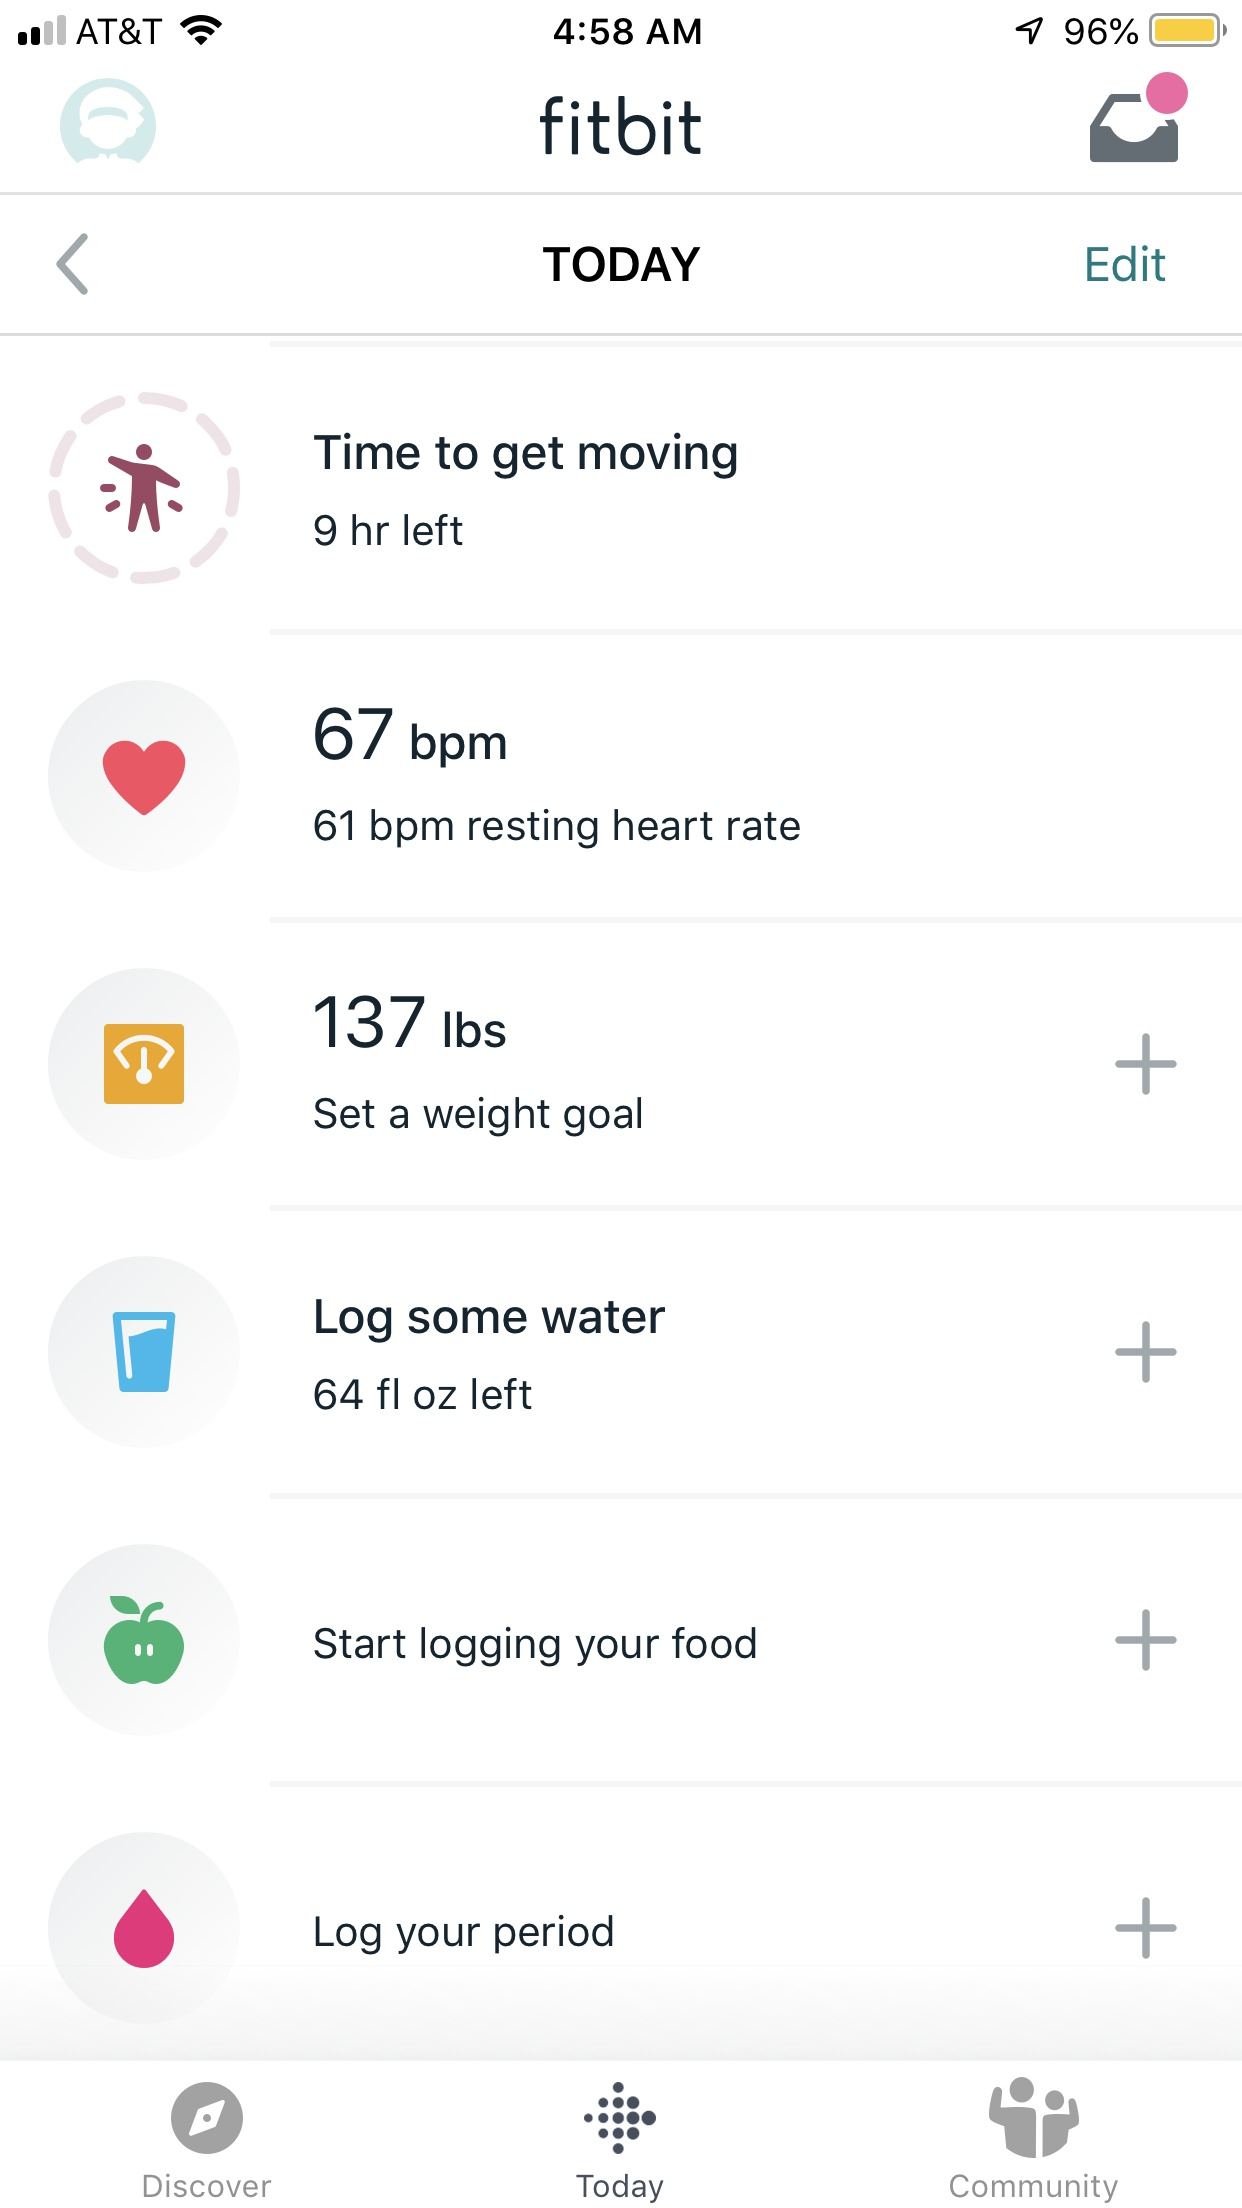Icon: (49, 679, 241, 873), (171, 2081, 244, 2155), (1115, 1607, 1178, 1673), (1115, 1319, 1178, 1385), (1115, 1896, 1178, 1959), (1115, 1033, 1178, 1096), (58, 234, 89, 297)
Image: (49, 1830, 243, 2025), (49, 1256, 243, 1450), (49, 391, 243, 585), (49, 1544, 243, 1736), (49, 968, 241, 1162), (1089, 71, 1189, 164), (61, 77, 158, 165), (989, 2076, 1080, 2159), (582, 2081, 657, 2155)
Text: (314, 808, 801, 851), (314, 434, 739, 481), (314, 1626, 757, 1668), (315, 1298, 667, 1344), (314, 1096, 643, 1137), (315, 1914, 614, 1956), (315, 707, 507, 769), (314, 993, 507, 1049), (540, 96, 702, 158), (314, 1377, 532, 1412), (543, 246, 701, 284), (949, 2173, 1119, 2203), (314, 514, 464, 547), (144, 2172, 273, 2197), (1086, 244, 1166, 284), (576, 2173, 666, 2203)
UpperTaskBar: (2, 2, 1242, 49)
